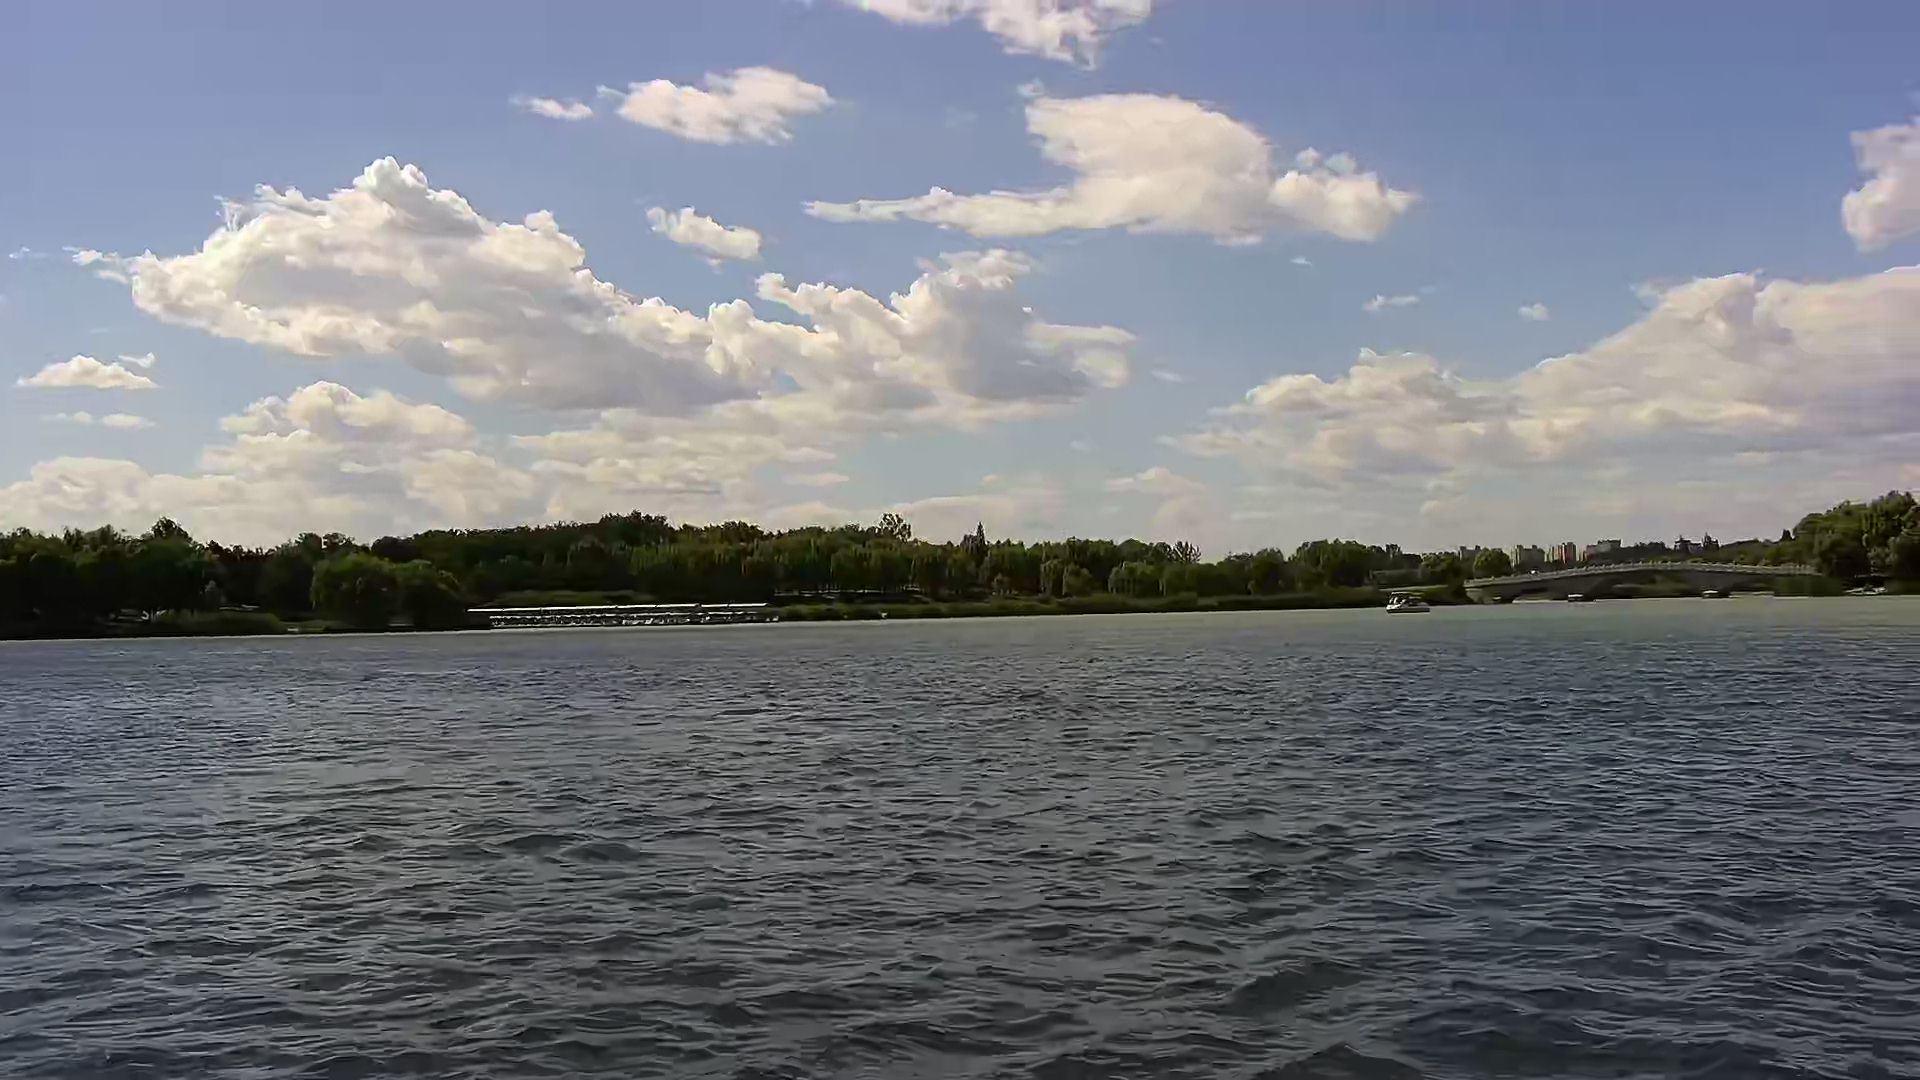boat: (1386, 592, 1431, 618)
bridge: (1462, 563, 1822, 604), (483, 607, 773, 622)
